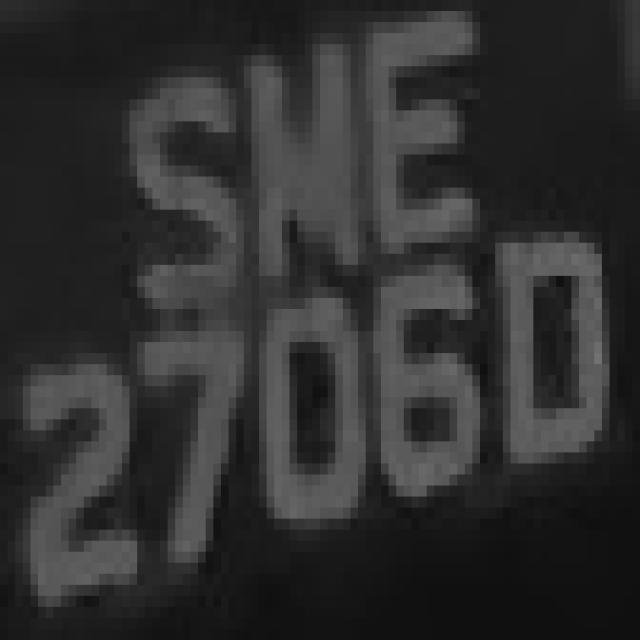0: (244, 265, 381, 541)
2: (8, 298, 144, 640)
6: (358, 210, 495, 508)
7: (114, 287, 244, 563)
D: (480, 209, 632, 496)
E: (350, 0, 488, 287)
M: (213, 22, 358, 287)
S: (91, 33, 244, 309)
